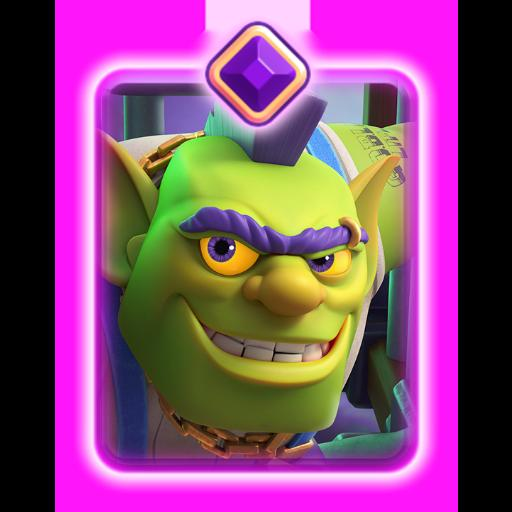goblin-cage-evo: (108, 78, 410, 462)
